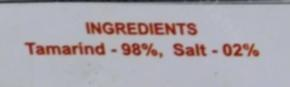ingredients: (20, 8, 264, 73)
